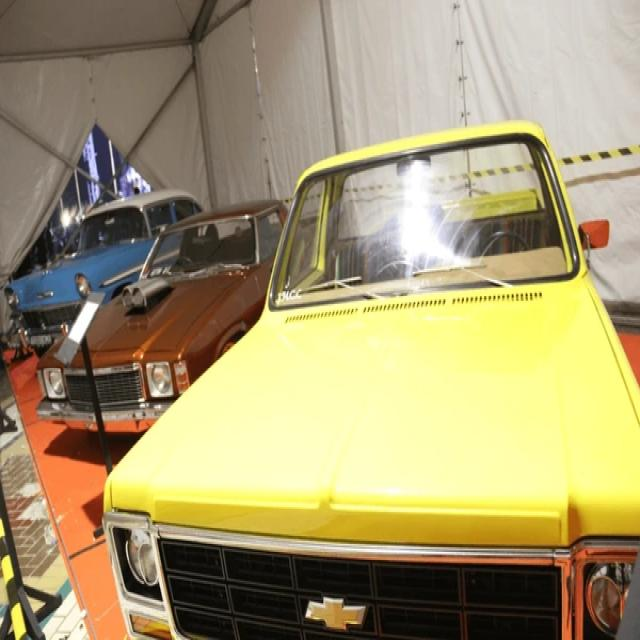chevrolet: (298, 593, 371, 632)
